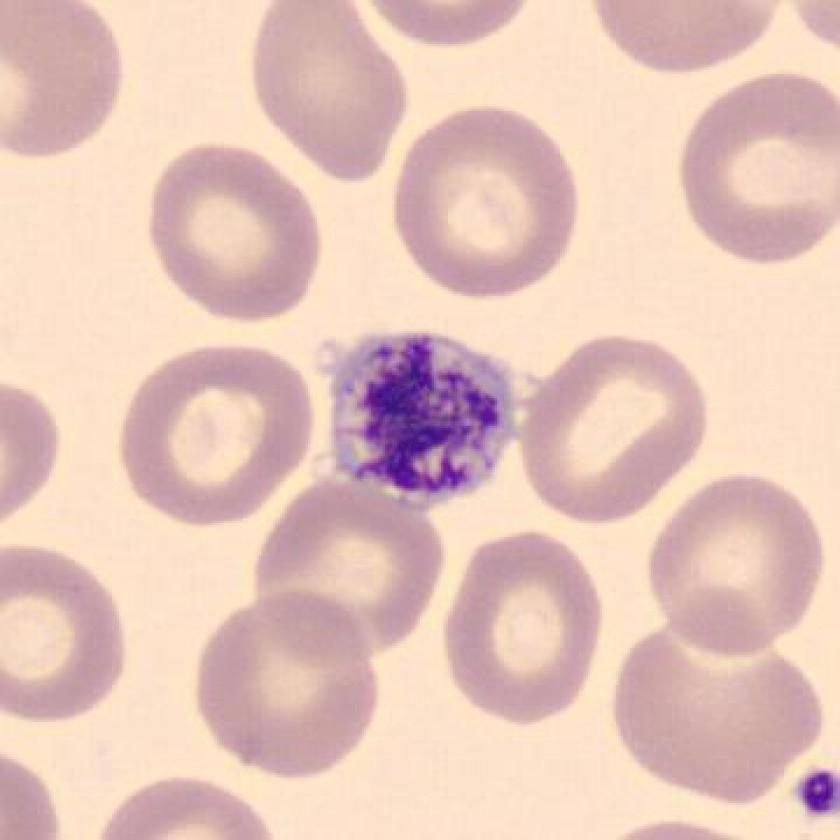platelets: (311, 323, 533, 517), (789, 757, 840, 827)
